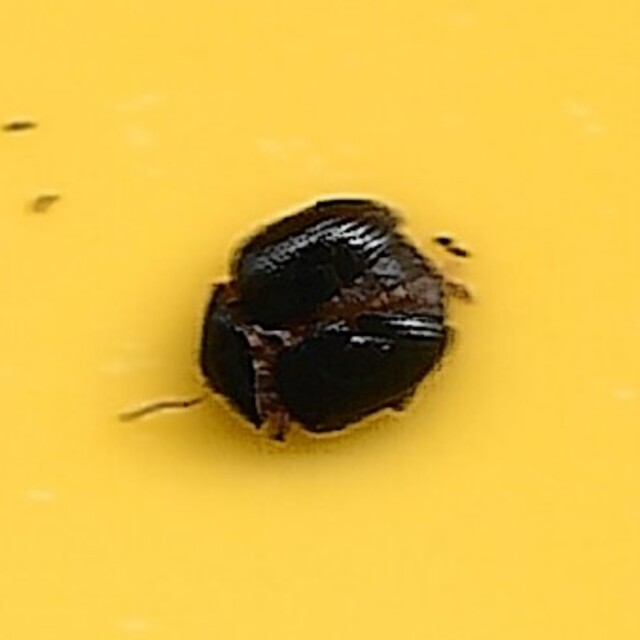Coleoptera: (189, 192, 451, 448)
